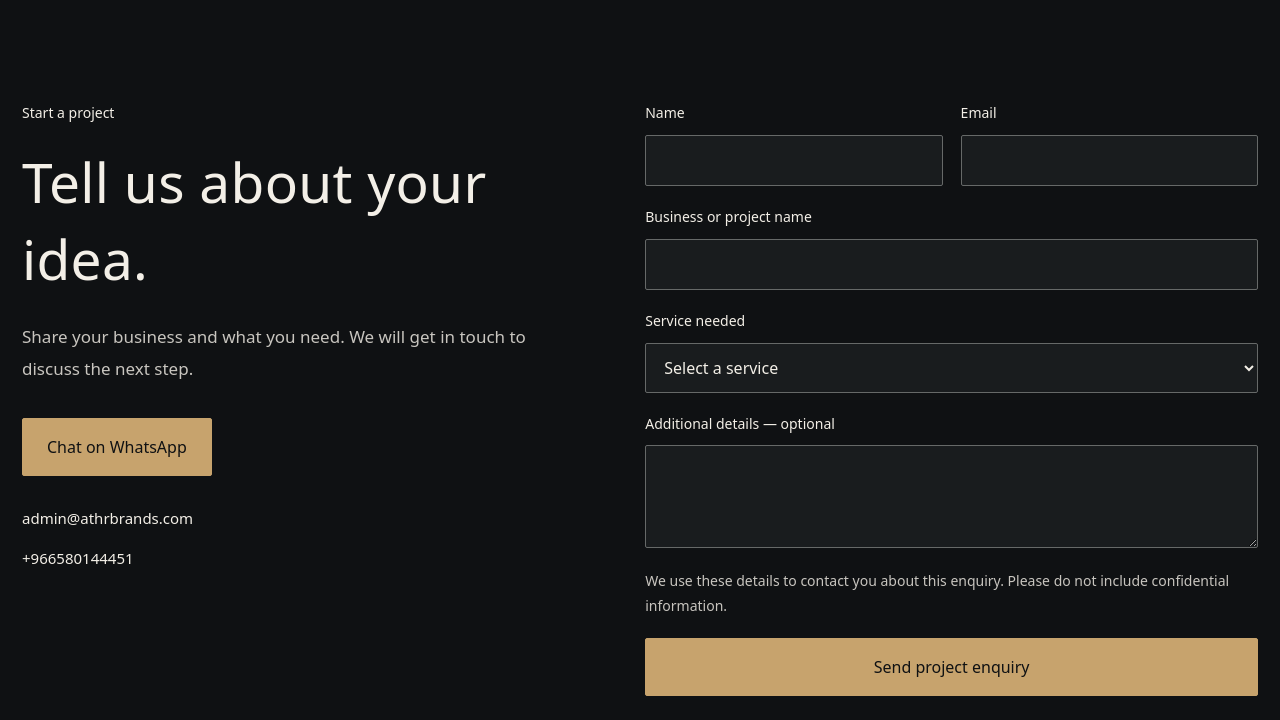
Studio contact › still confirms a successful enquiry when tracking throws
Step 1. Type "Test user" into the field labelled "Name" → (794, 161), box [645,135,943,186]
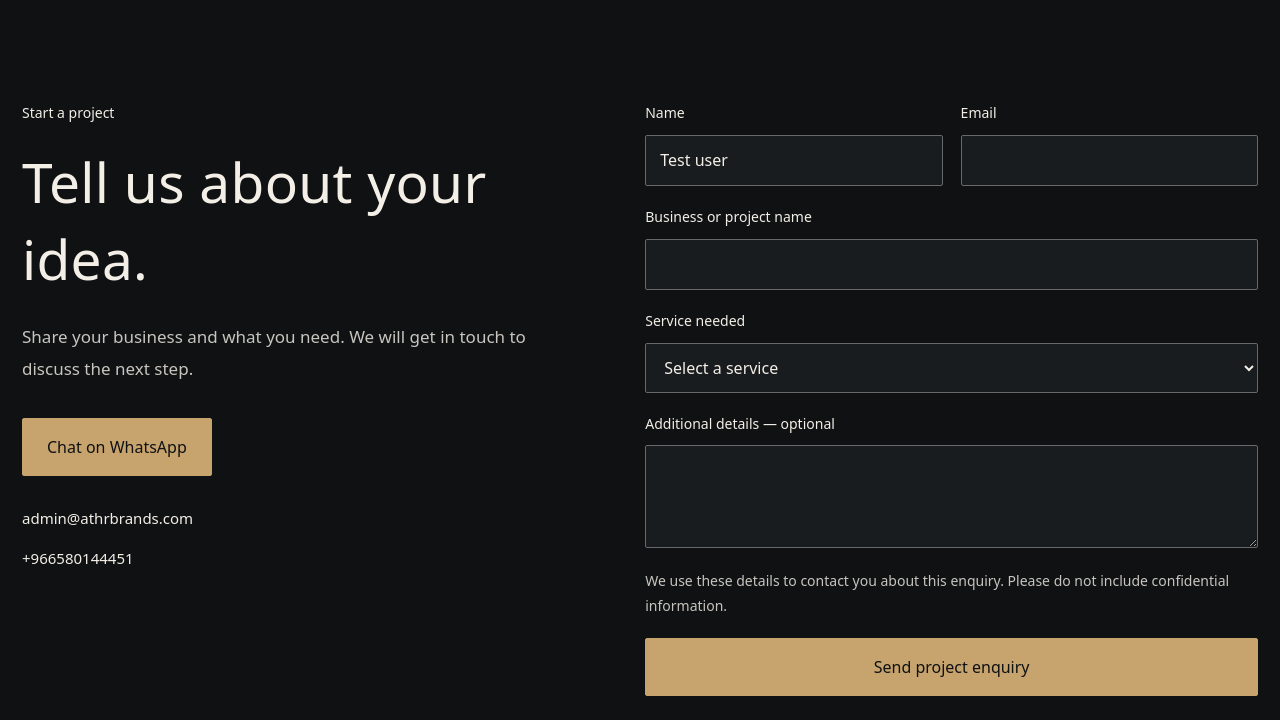
Step 2. Type "test@example.com" into the field labelled "Email" → (1109, 161), box [961,135,1258,186]
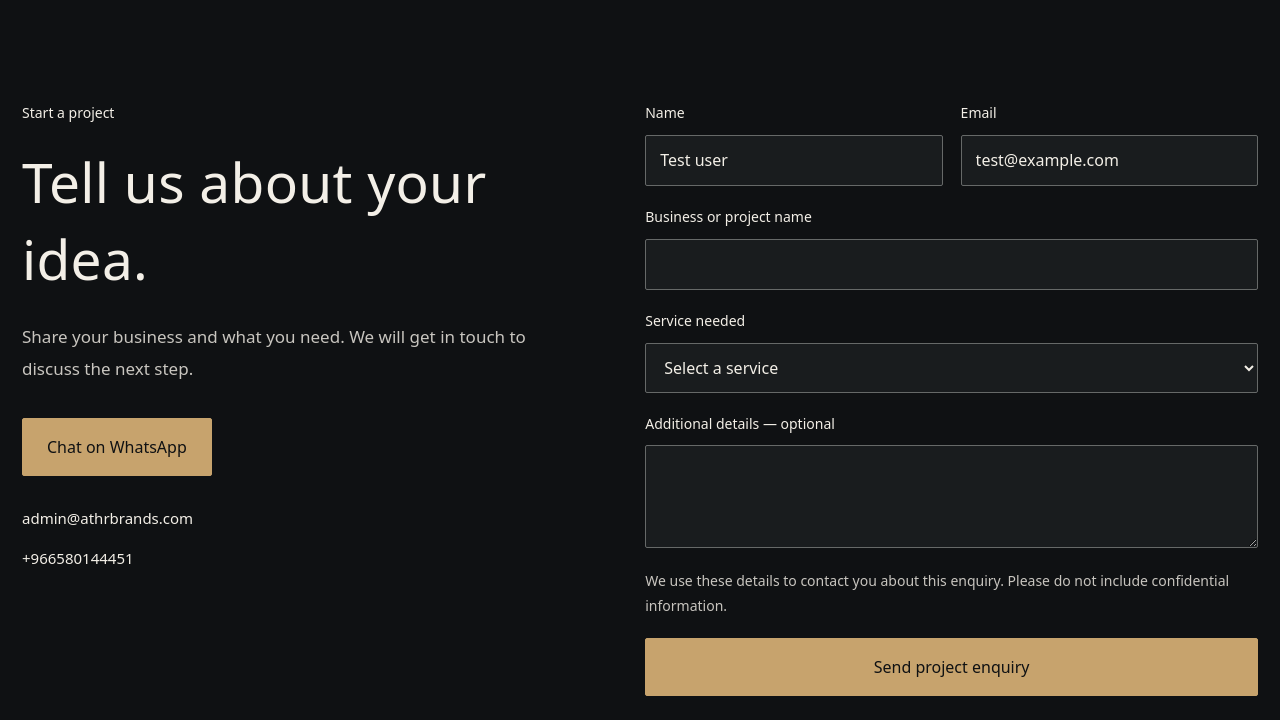
Step 3. Type "Test business" into the field labelled "Business or project name" → (952, 265), box [645,239,1258,290]
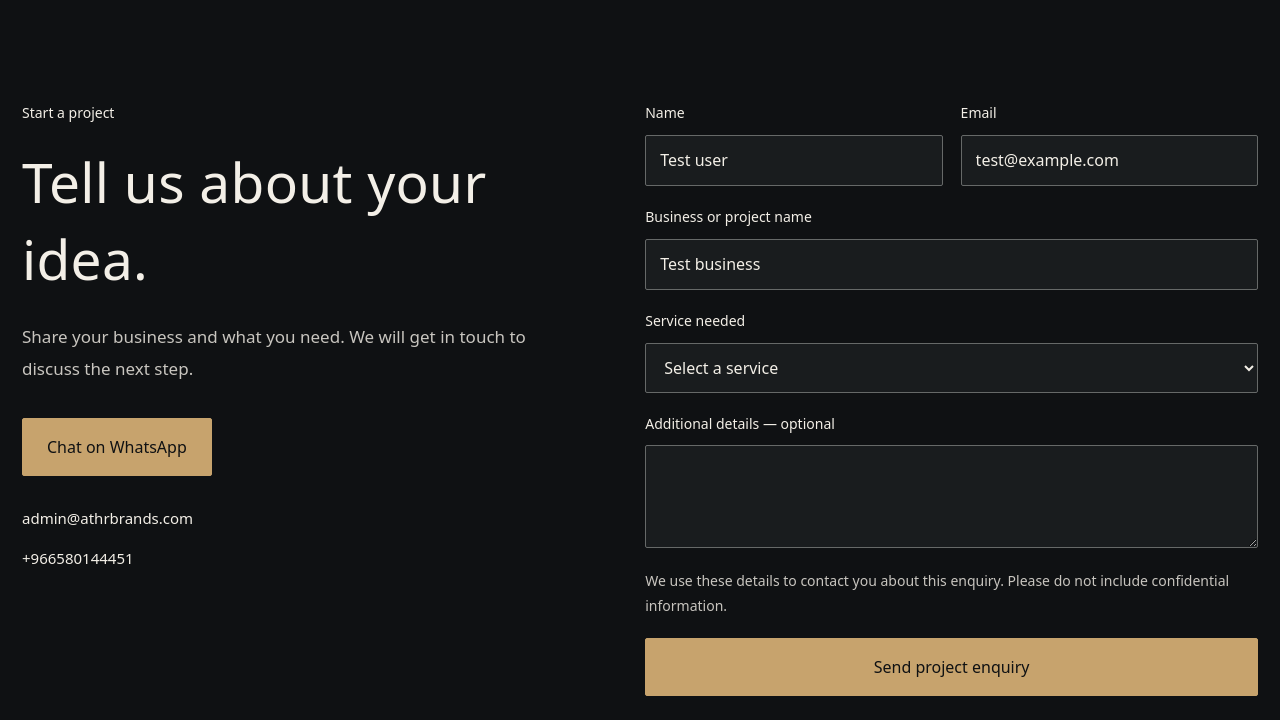
Step 4. Select "Brand strategy" in the dropdown labelled "Service needed" → (952, 368), box [645,343,1258,393]
(page scrolled)
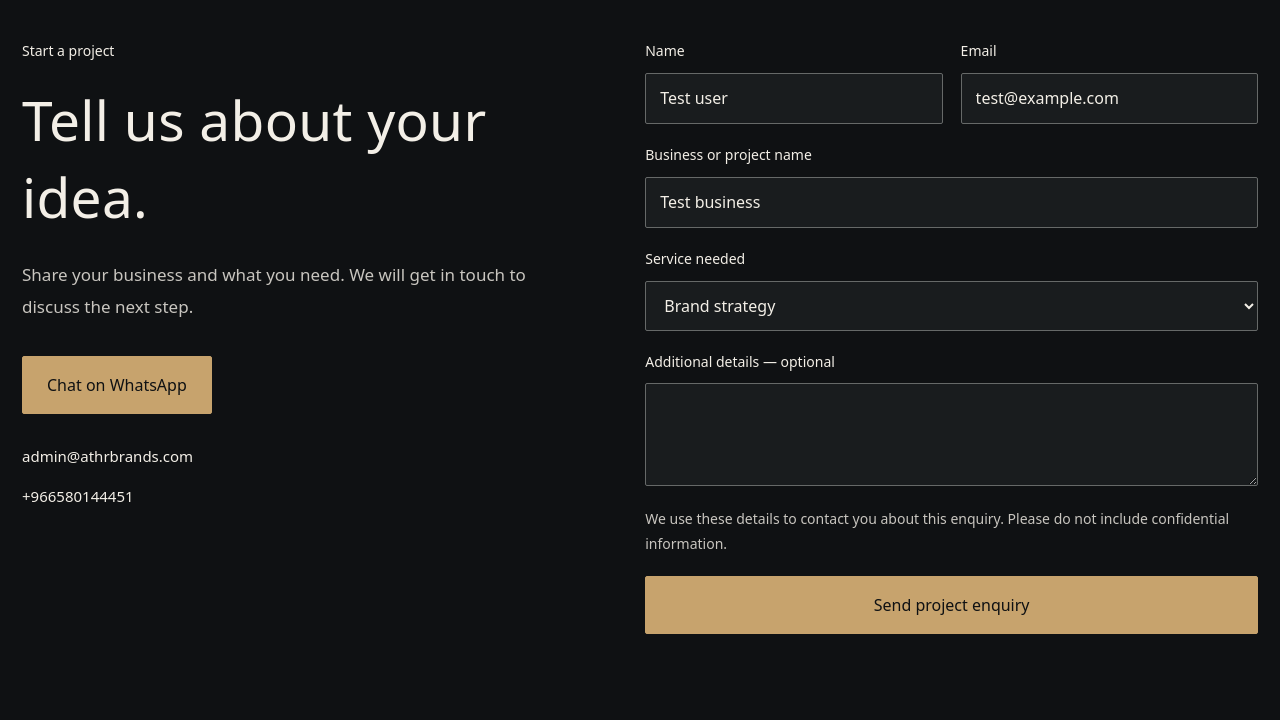
Step 5. Submit the form, box [645,40,1258,680]
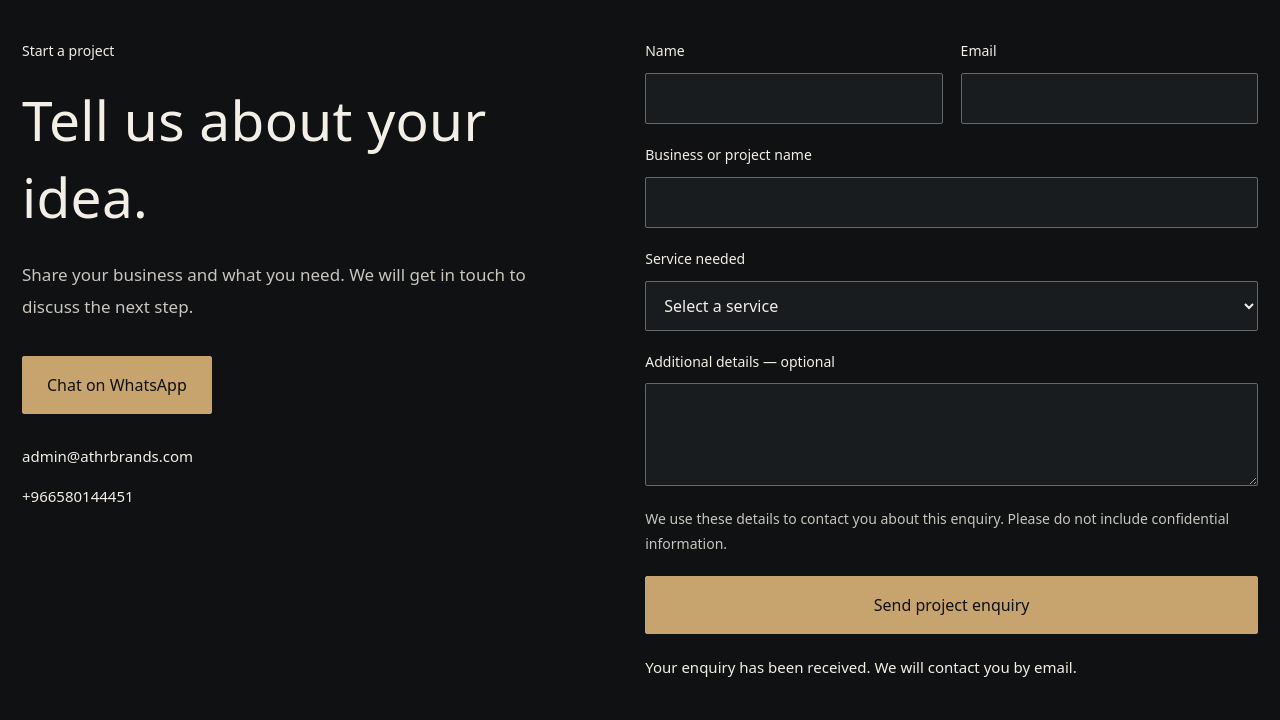
Check: the text "Your enquiry has been received. We will contact you by email." is shown, box [645,657,1077,677]
